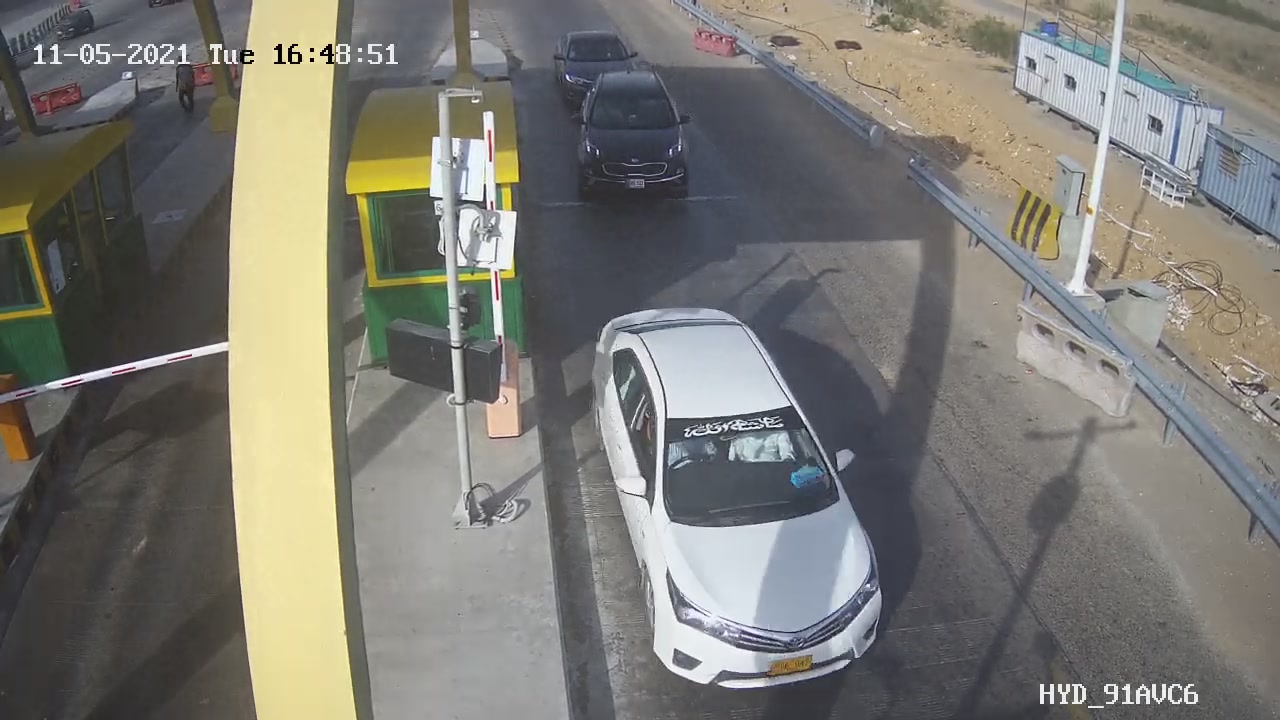F1: (557, 55, 711, 216)
